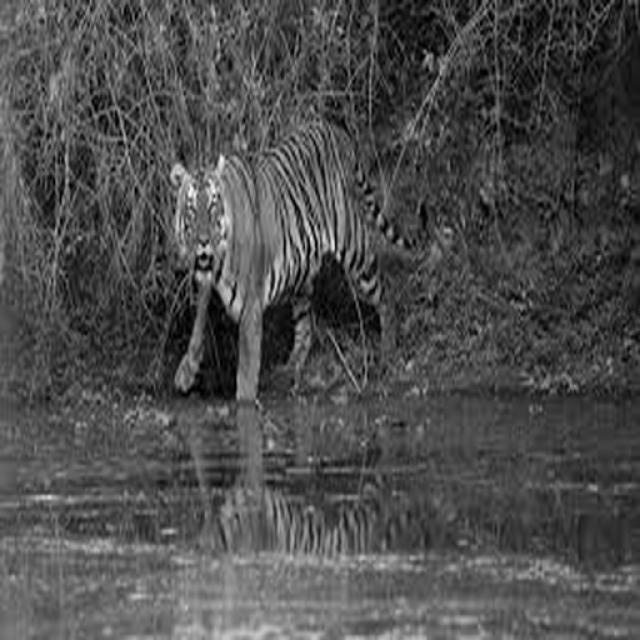Tiger: (166, 115, 399, 405)
